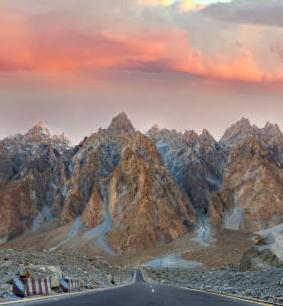sharp_turn: (33, 251, 228, 306)
